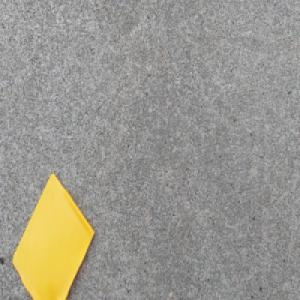PlasticPart: (12, 171, 95, 300)
